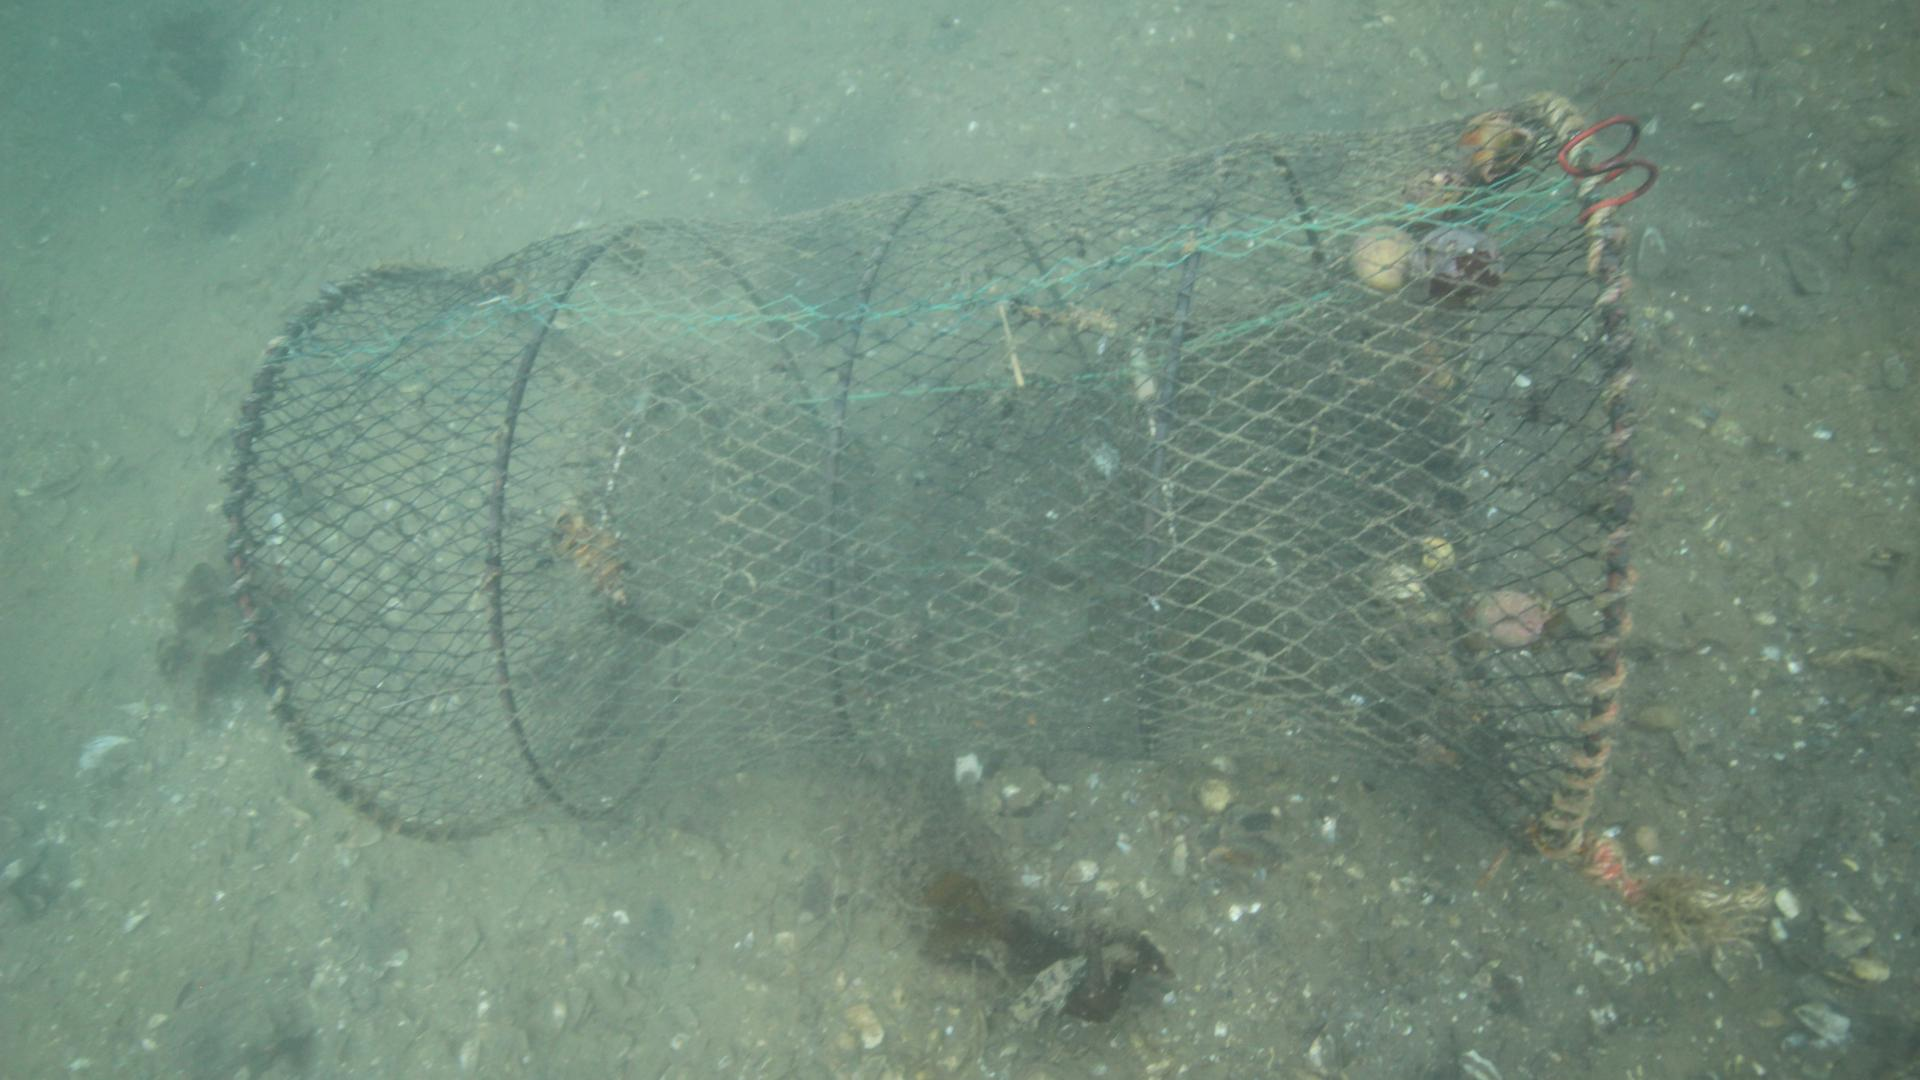spring fish trap: (225, 87, 1643, 862)
